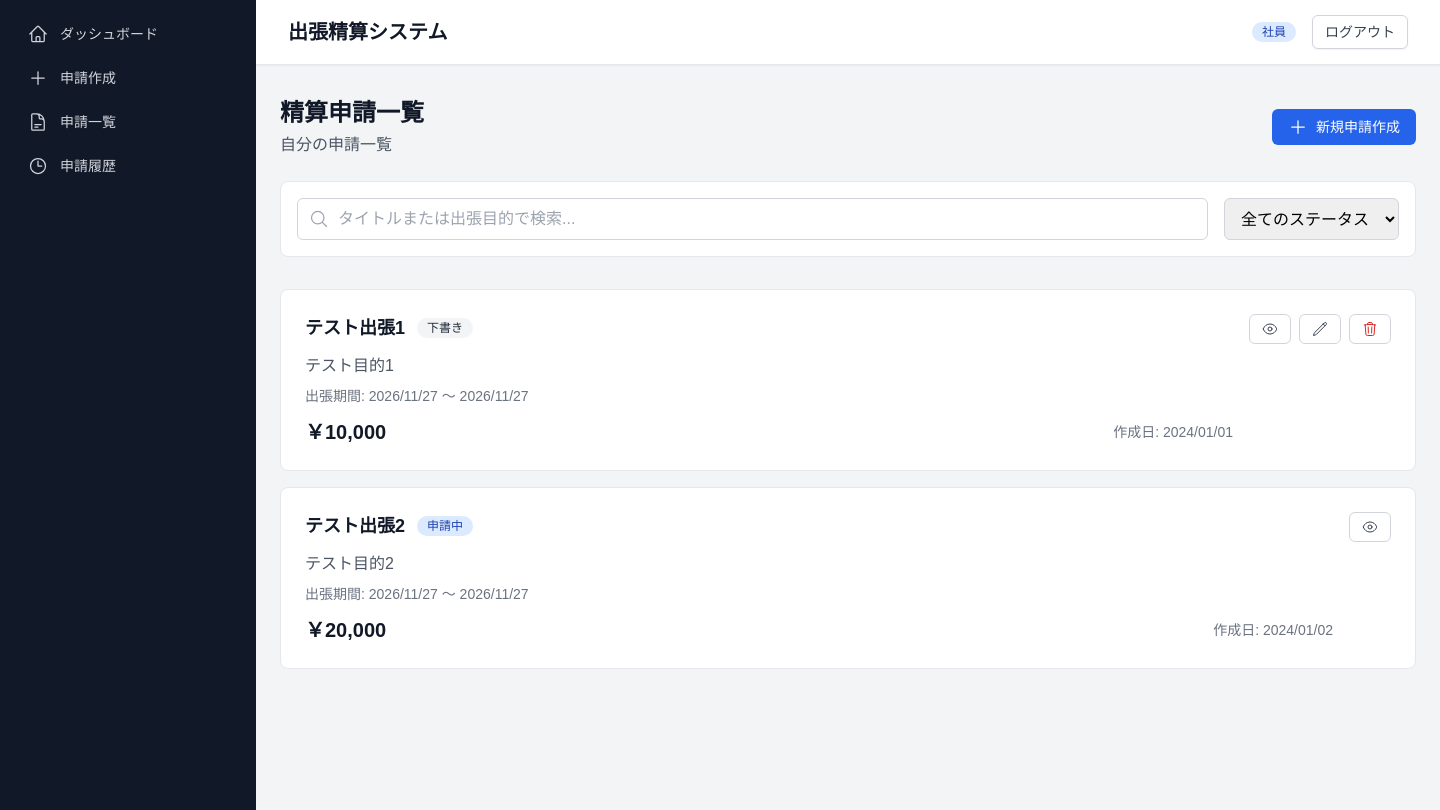
Test: ExpenseReportListPage › filters reports by search term
Expected: the heading "テスト出張1" is shown, [305,314,405,342]
Expected: the heading "テスト出張2" is shown, [305,512,405,540]
// Search for specific term
In the field with placeholder "タイトルまたは出張目的で検索...": (752, 219) [297,198,1208,240], type "テスト出張1"
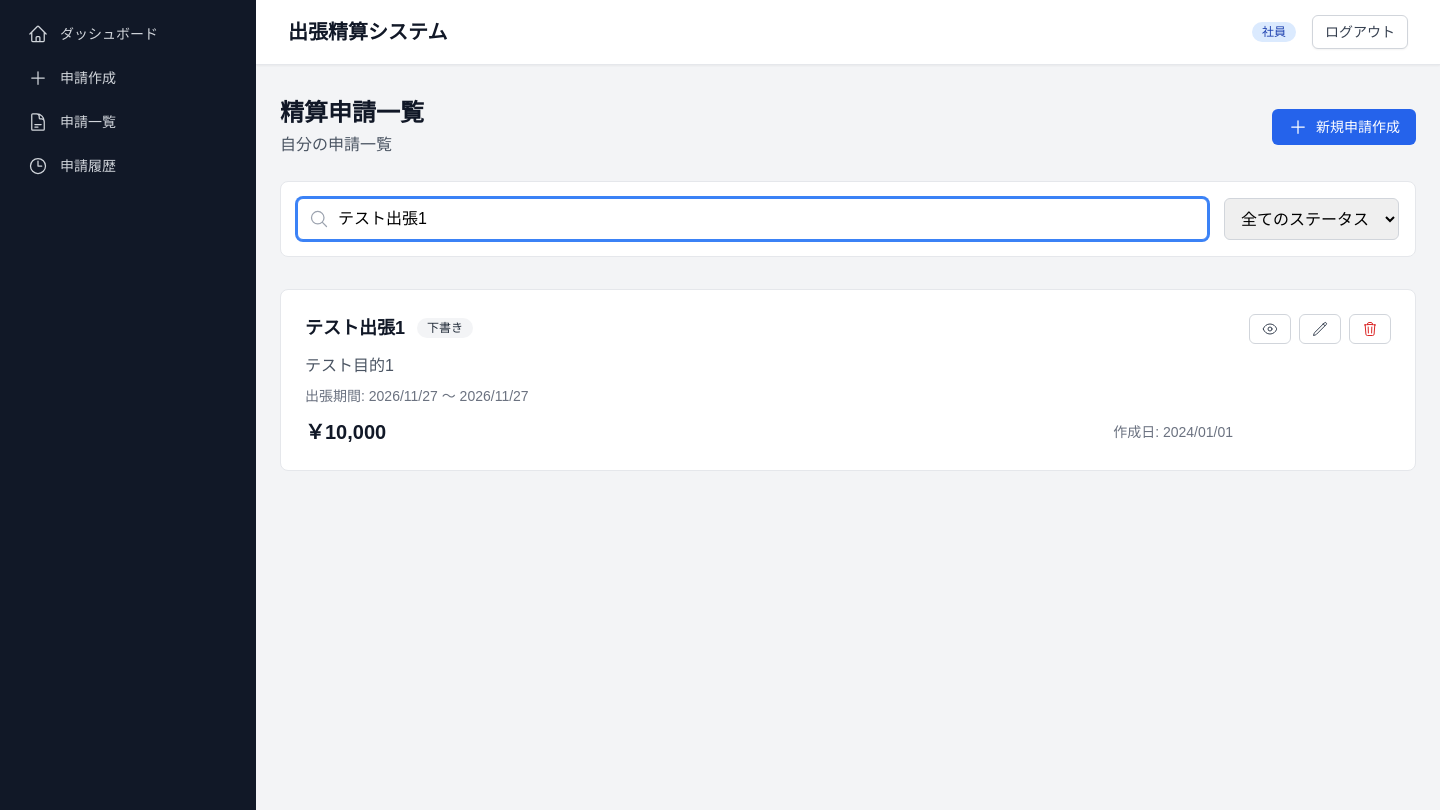
Expected: the heading "テスト出張1" is shown, [305,314,405,342]
Now the heading "テスト出張2" is gone
